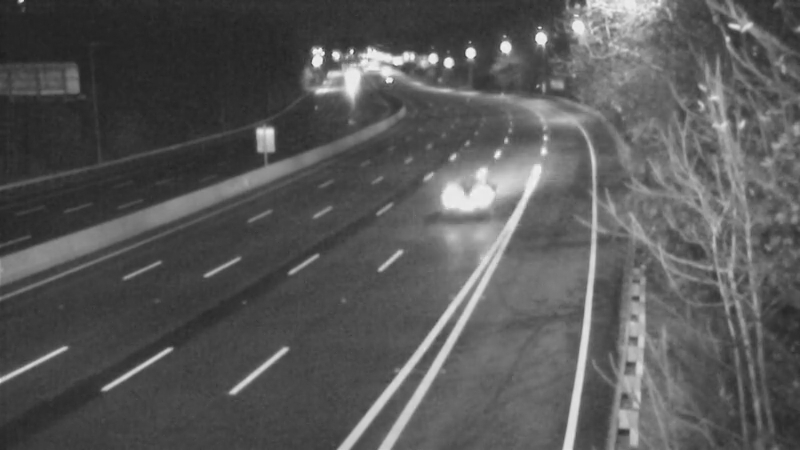vehicle: (427, 157, 507, 237), (326, 55, 376, 105)
